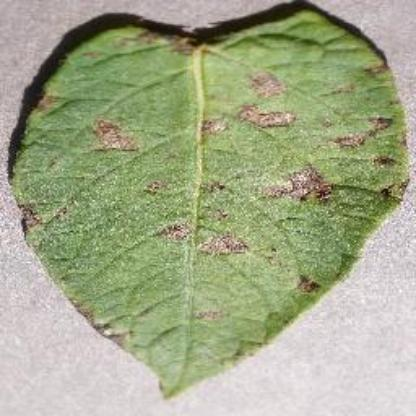Early-Blight: (10, 11, 410, 397)
